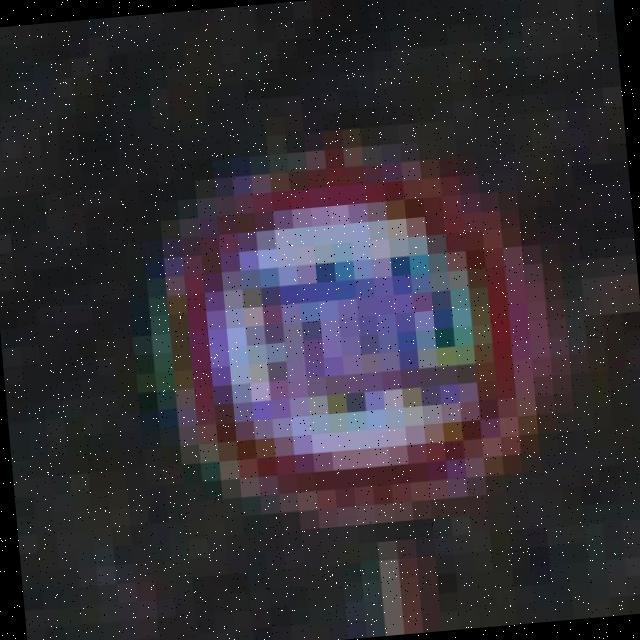Ograniczenie predkosci do 100: (151, 142, 552, 528)
